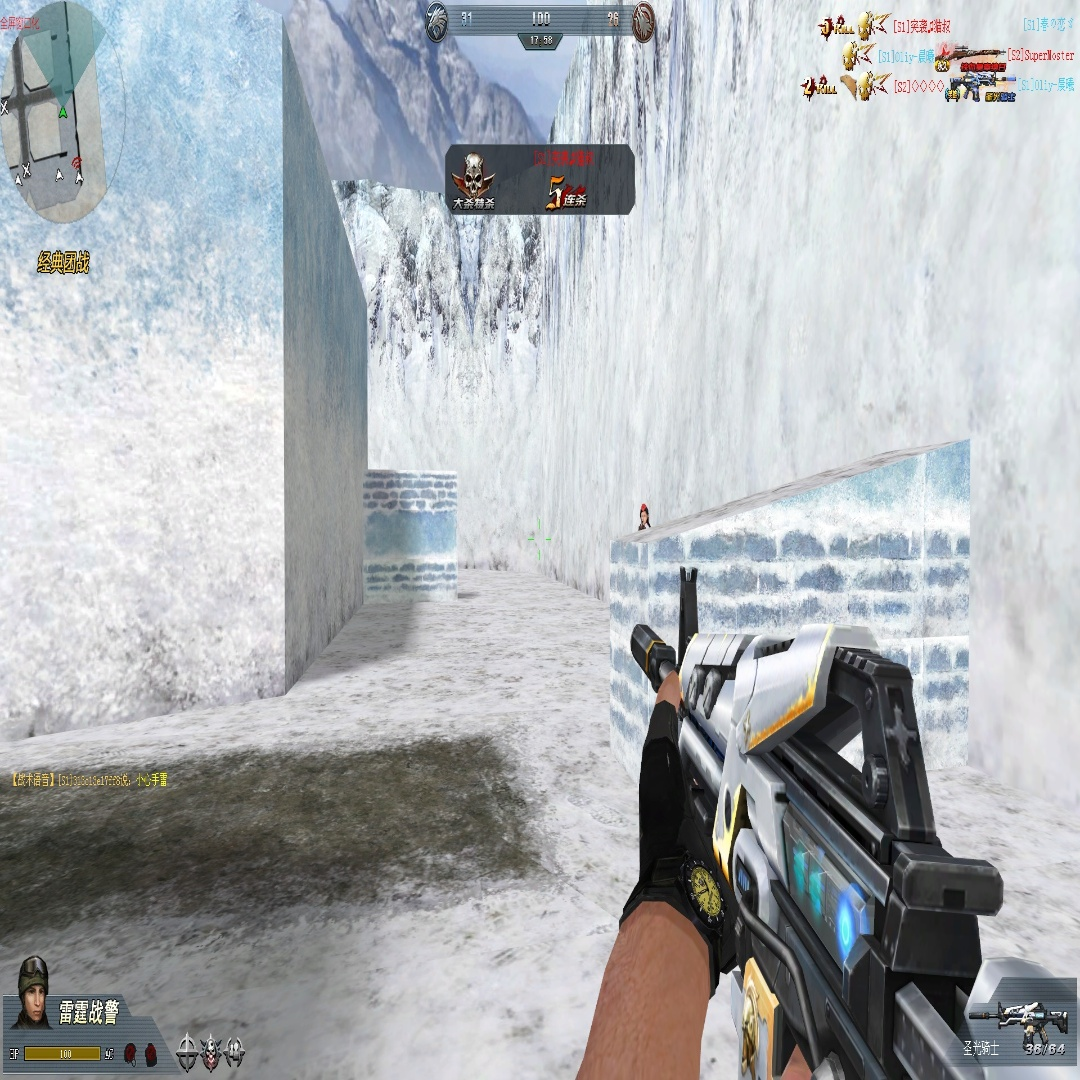head: (639, 504, 649, 526)
t: (637, 502, 651, 532)
